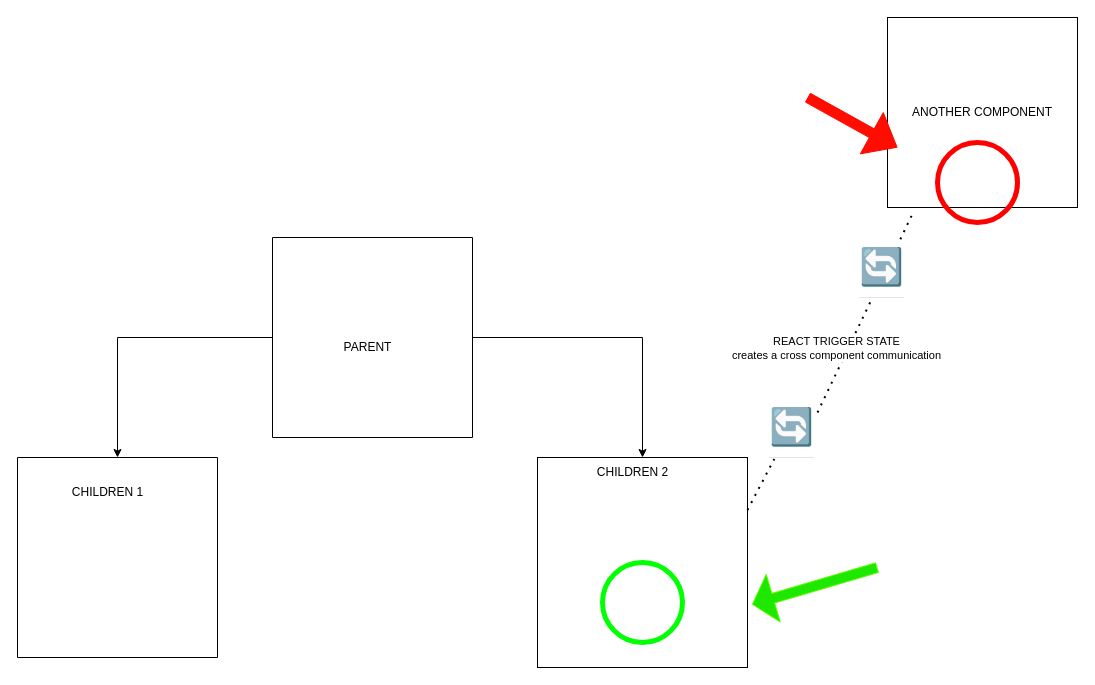
The diagram is 1095 pixels wide and 685 high, and some of its shapes have lost their labels. Each missing label, with the centre of its shape:
"accesses STATE 1" goes at [642,602].
"creates STATE 1" goes at [977,182].
